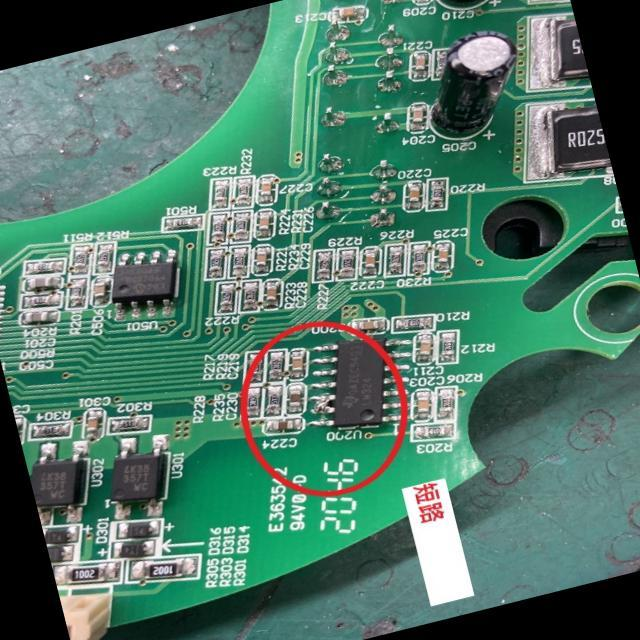Short_circuit: (311, 395, 334, 414)
